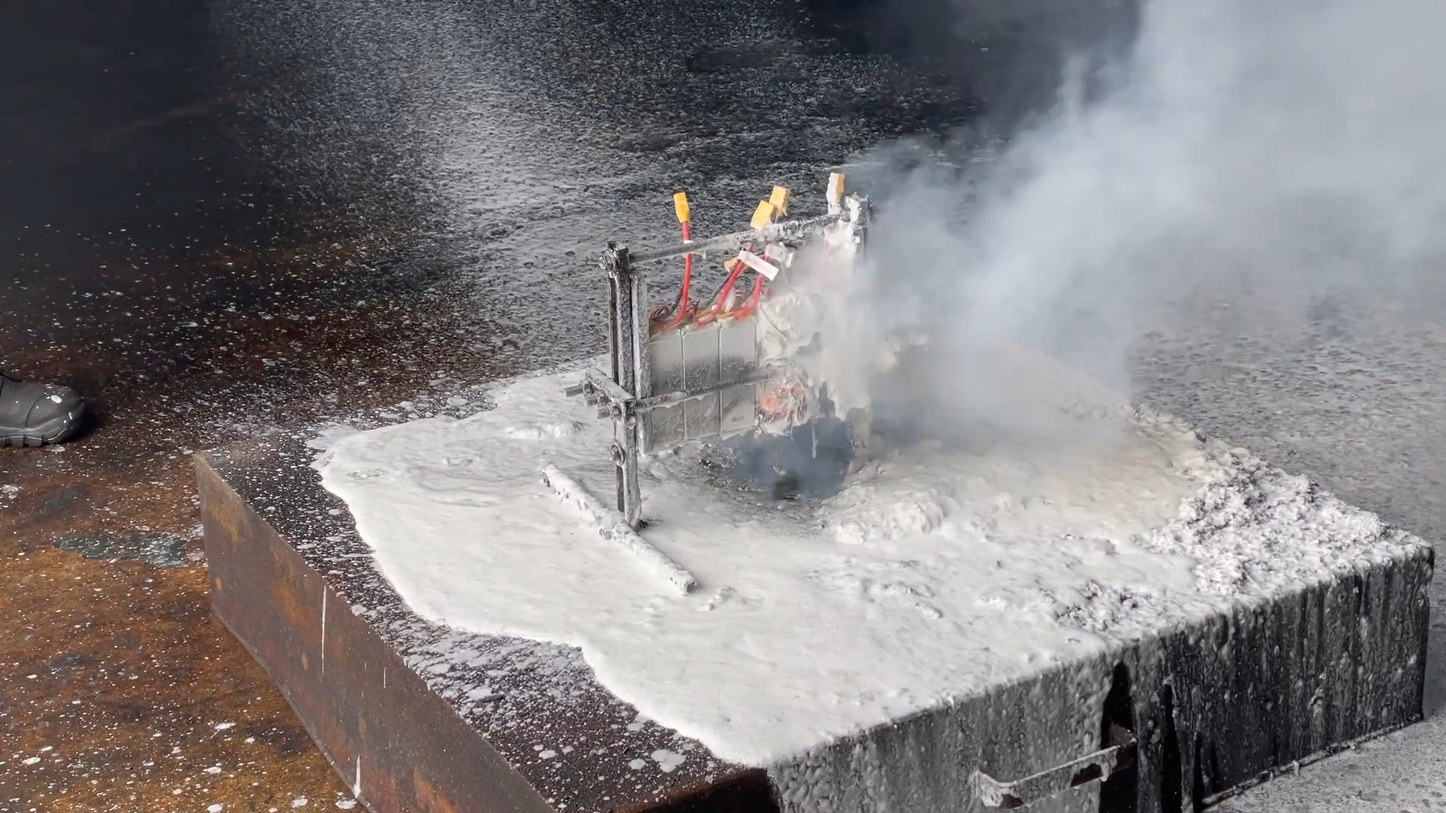smoke: (789, 1, 1445, 461)
